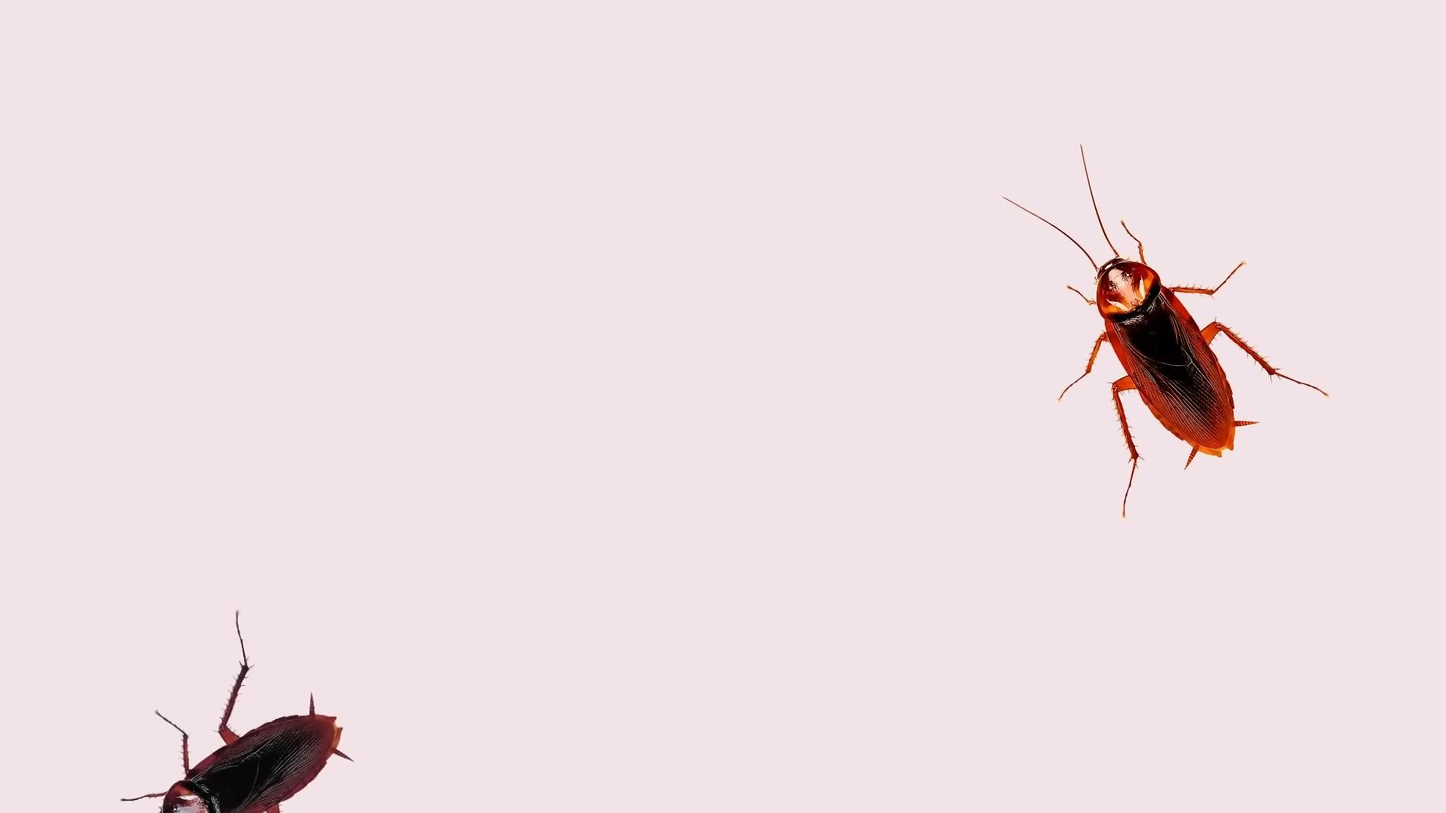cockroach: (1017, 147, 1271, 473), (132, 601, 350, 813)
